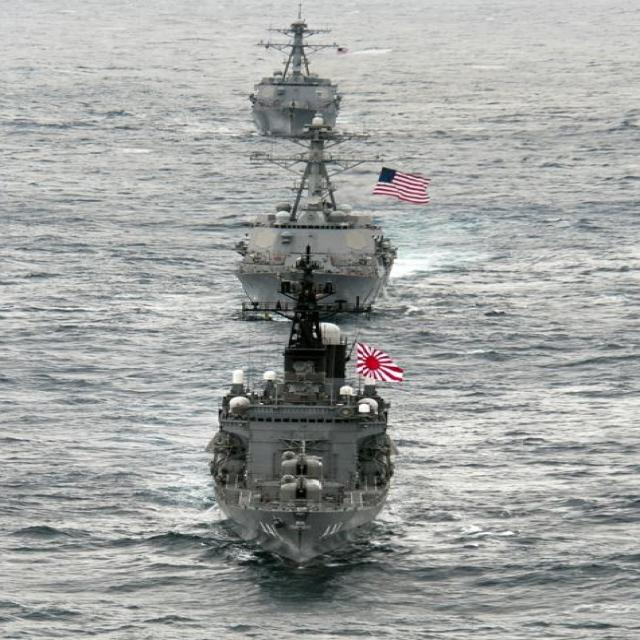navalvessels: (177, 303, 432, 568), (213, 138, 416, 320), (236, 14, 363, 145)
